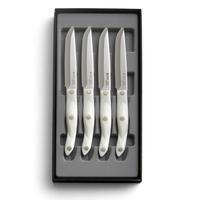knife: (60, 25, 80, 160), (95, 24, 114, 161), (78, 24, 97, 158), (112, 24, 130, 163)
